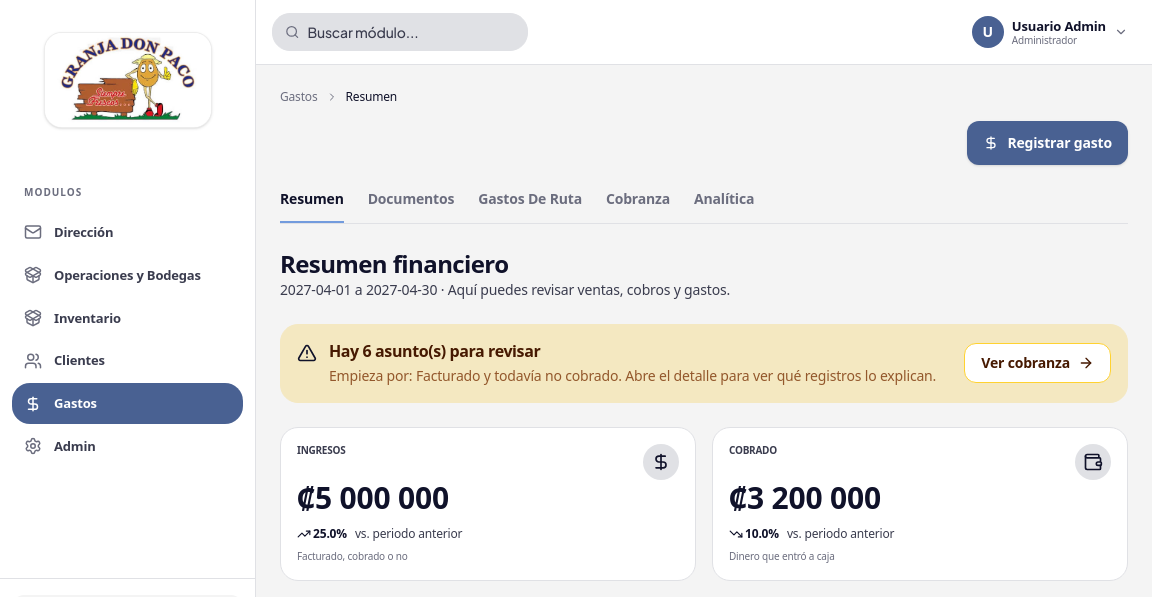
Test: lo que aportaba el Centro de Mando vive en Resumen › las alertas de operación se fusionan en la misma bandeja, no en otra
The image size is (1152, 597).
Click the button "Gastos" below "Modulos". click: (128, 404)
box: [12,383,243,424]
(page scrolled)
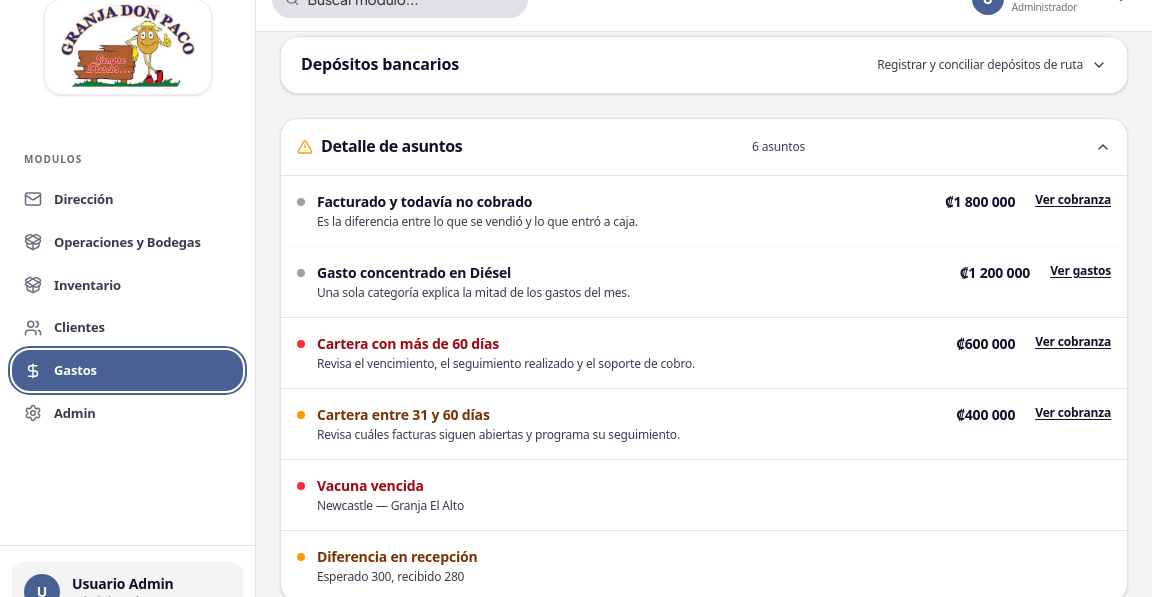
Expected: the element with test id "finanzas-requiere-atencion" shows "Vacuna vencida", [317,476,424,495]
Expected: the element with test id "finanzas-requiere-atencion" shows "Diferencia en recepción", [317,547,478,566]
Expected: the element with test id "finanzas-requiere-atencion" shows "Cartera con más de 60 días", [317,334,499,353]
